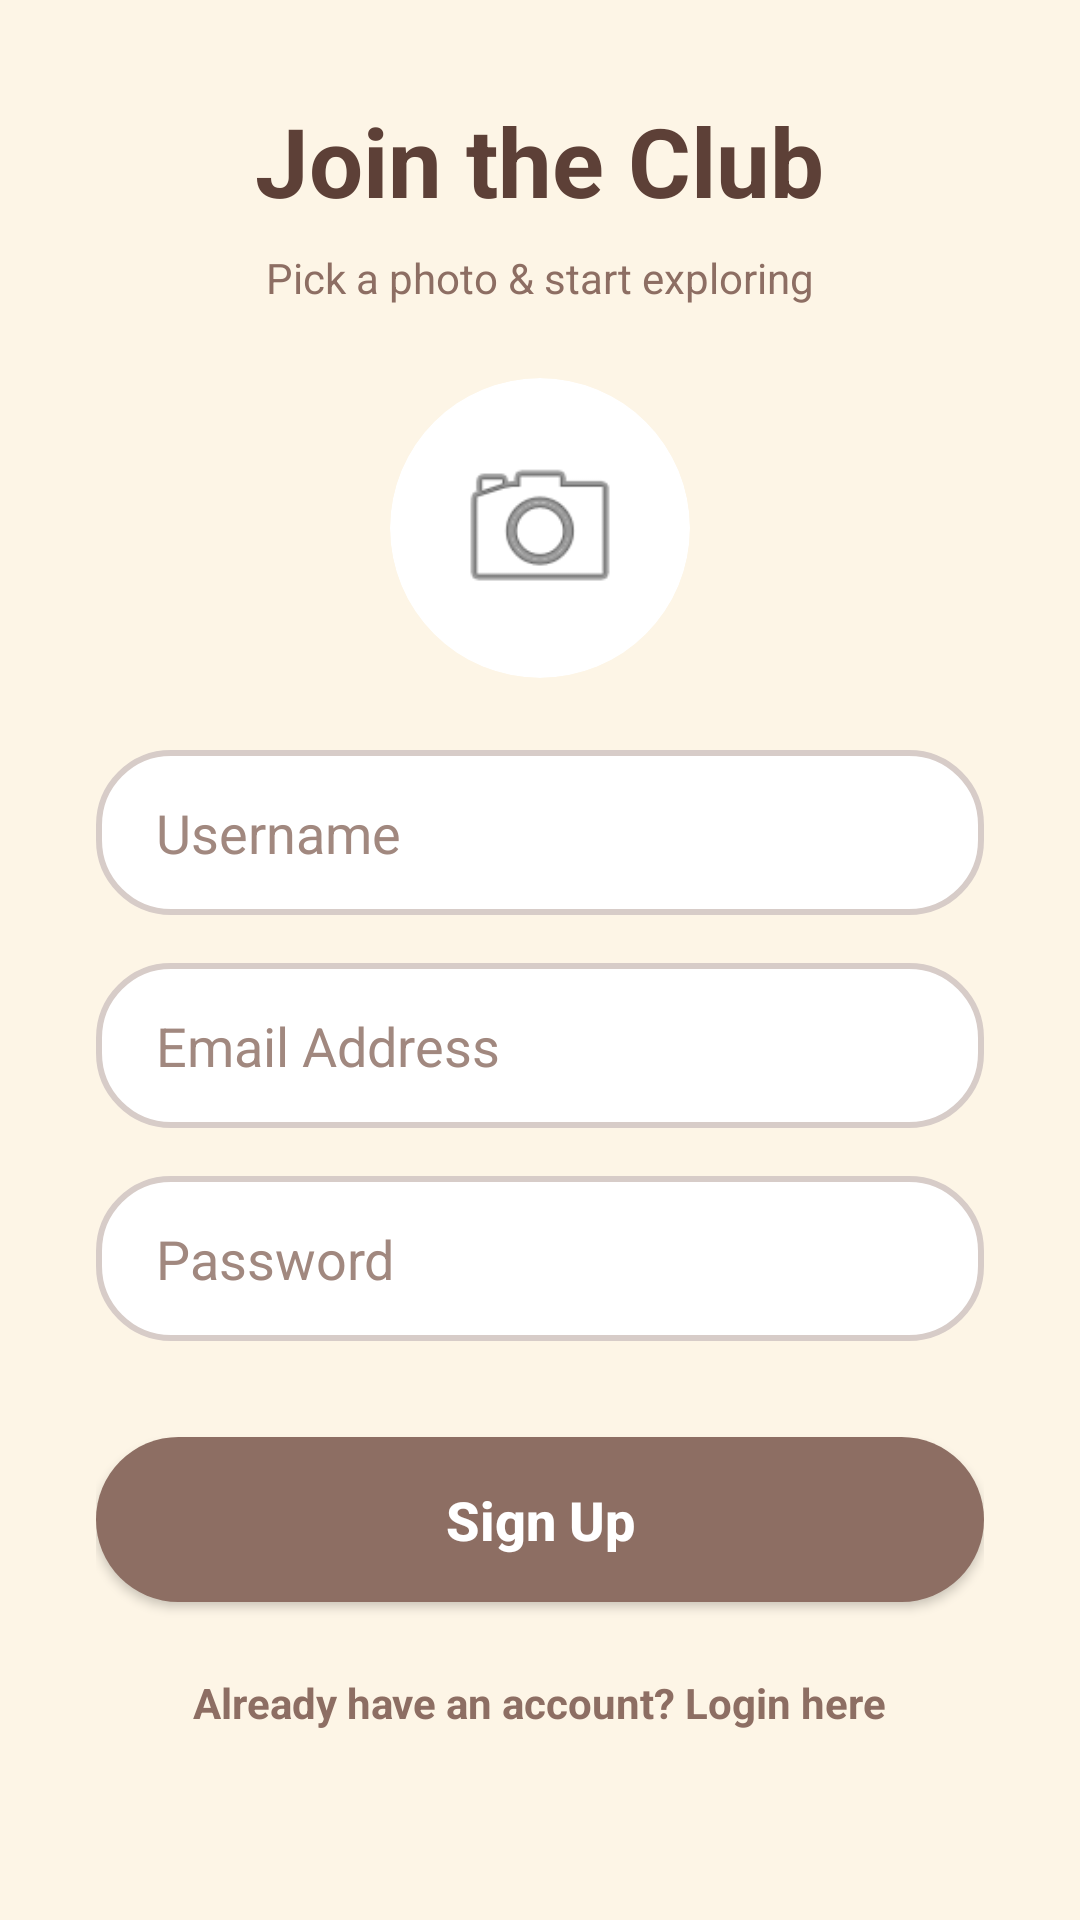

Icon click points for this 1080w x 1920h phone screenshot, format (x=x, y=y):
camera: (x=540, y=527)
